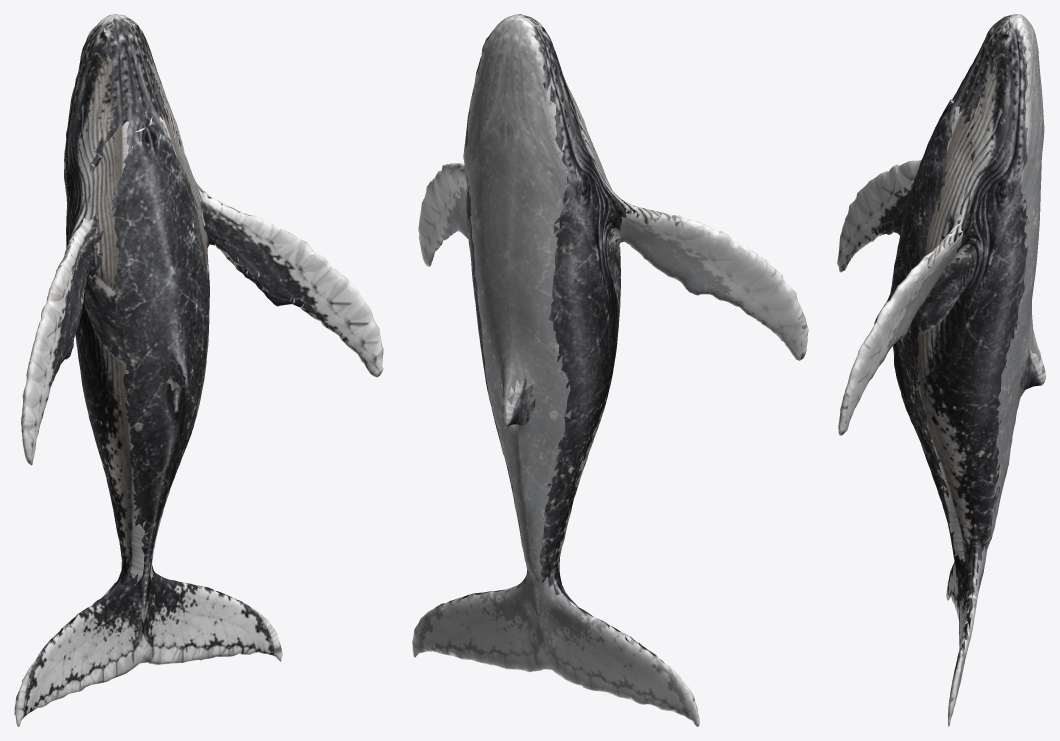
File: whale2.glb
3 views of the same model, side by side, from view 1: azimuth 30°, elevation 25°; view 2: azimuth 150°, elevation 25°; view 3: azimuth 270°, elevation 25° (orthographic). The views are drawn at different scales.
Parts seen in each view (by area): view 1: geometry_0; view 2: geometry_0; view 3: geometry_0.
Part boxes in pixels (<box>): geometry_0: <box>14,14,383,726</box>; geometry_0: <box>412,14,808,726</box>; geometry_0: <box>837,14,1045,726</box>.
Size of the model in its own units: 1.13 by 1.95 by 0.5698.
1 material, 1 textured.
